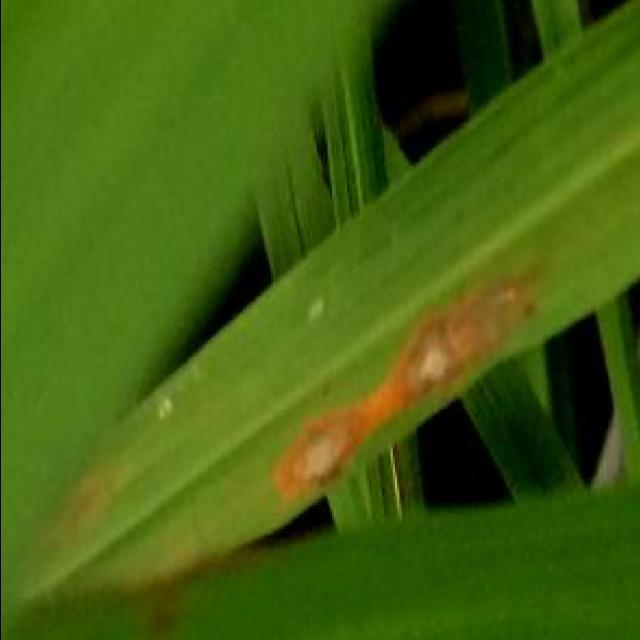Leaf_Blast: (390, 253, 556, 412), (274, 394, 372, 507)
